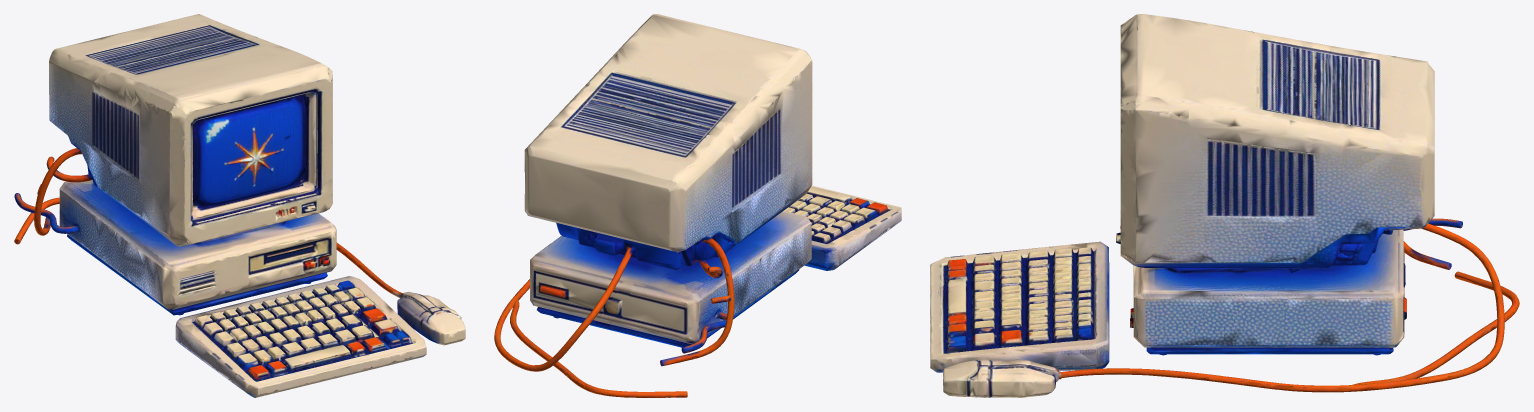
File: retro_pc.glb
3 views of the same model, side by side, from view 1: azimuth 30°, elevation 25°; view 2: azimuth 150°, elevation 25°; view 3: azimuth 270°, elevation 25° (orthographic). The views are drawn at different scales.
Parts seen in each view (by area): view 1: node_0; view 2: node_0; view 3: node_0.
Boxes of the visible parts, x1,y1,x2,y2 form: node_0: (14, 14, 465, 397); node_0: (494, 14, 901, 397); node_0: (930, 14, 1519, 397).
Bounding box in the file's own units: 0.5711 × 0.5262 × 1.01.
1 material, 1 textured.
